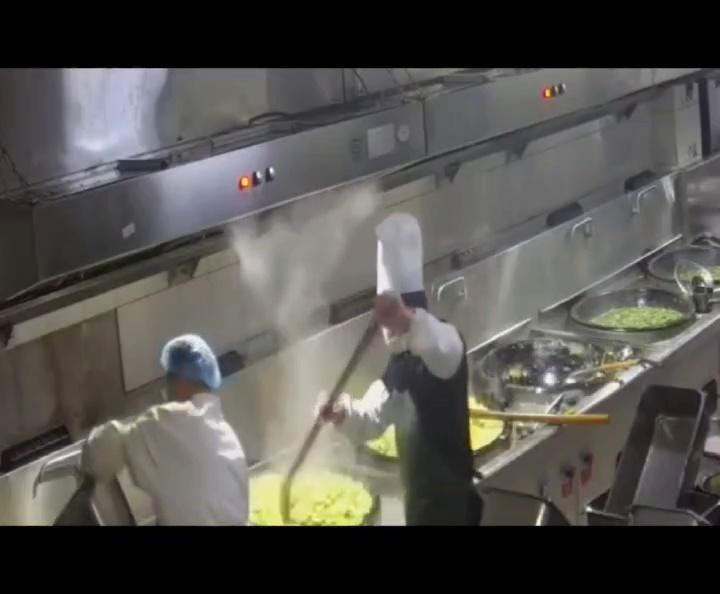gloves: (161, 334, 221, 390)
